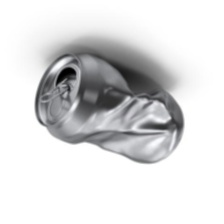can: (23, 48, 192, 166)
